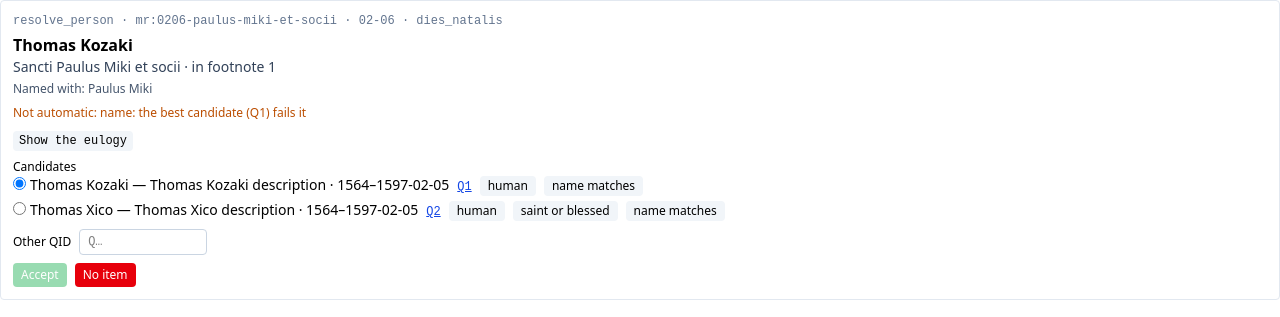
Test case: PersonCard, from the review of #113 › does not accept a listed candidate that crmedr's apply would refuse
The width and height of the screenshot is (1280, 317).
Expected: the button "Accept" is disabled, x1=13 y1=263 x2=67 y2=287
Click the radio button labelled "Thomas Xico — Thomas Xico description · 1564–1597-02-05": (20, 208) x1=13 y1=202 x2=26 y2=215
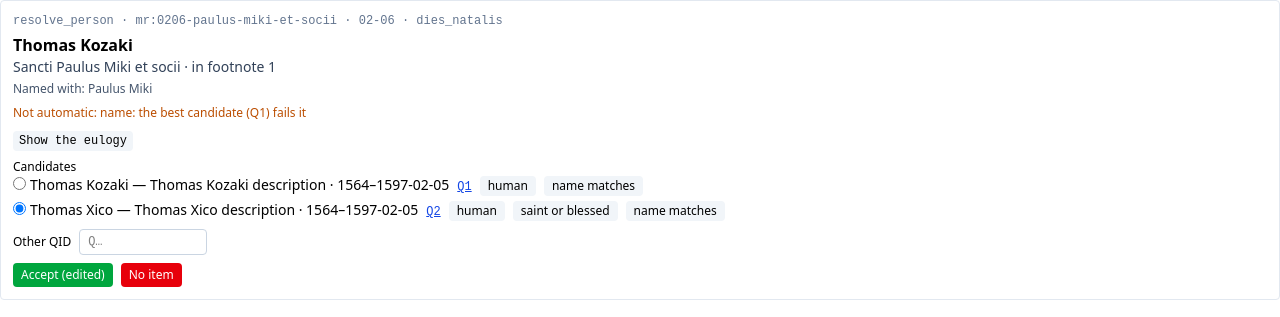
Now the button "Accept (edited)" is enabled, box x1=13 y1=263 x2=113 y2=287
Click the radio button labelled "Thomas Kozaki — Thomas Kozaki description · 1564–1597-02-05": (20, 184) x1=13 y1=177 x2=26 y2=190
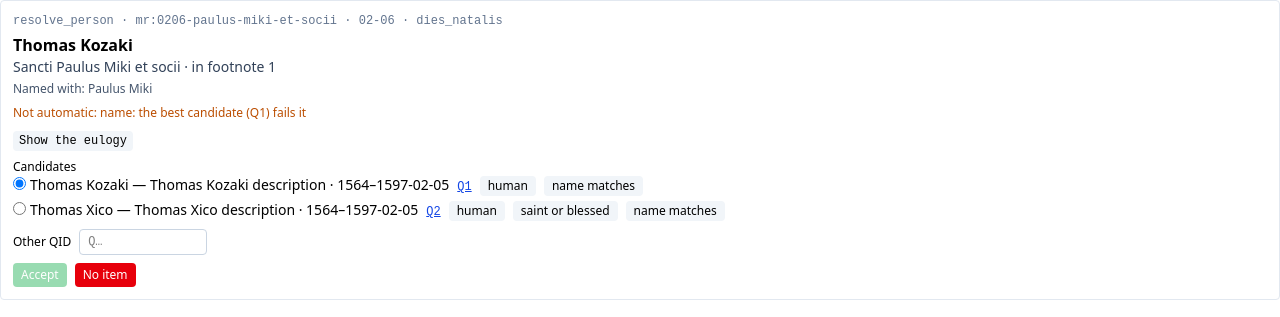
In the field labelled "Other QID": (143, 242) x1=79 y1=229 x2=207 y2=255, type "Q99"
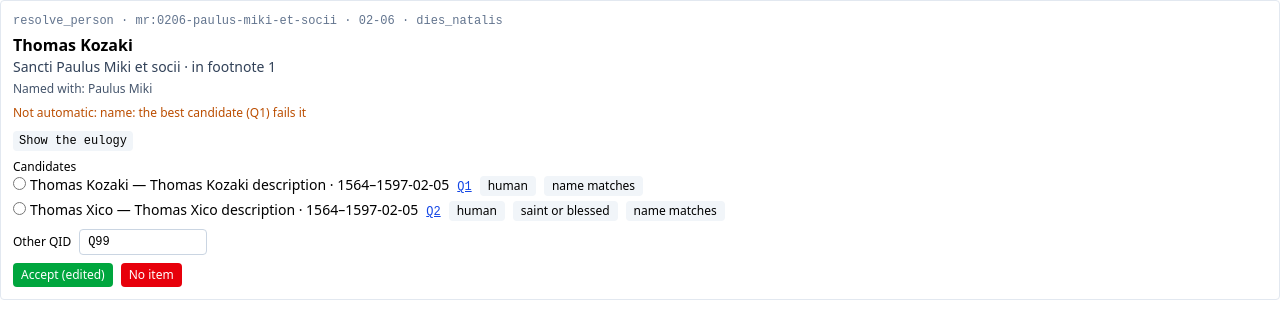
Now the button "Accept (edited)" is enabled, box x1=13 y1=263 x2=113 y2=287
